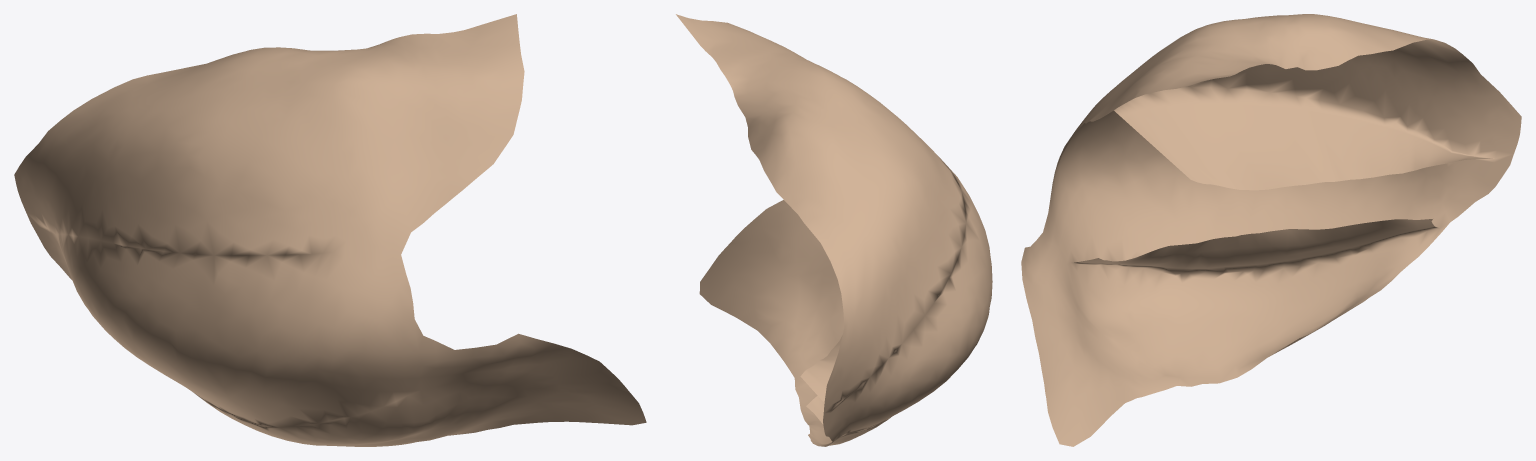
3 renders of one model, left to right at view 1: azimuth 30°, elevation 25°; view 2: azimuth 150°, elevation 25°; view 3: azimuth 270°, elevation 25°, orthographic. The views are drawn at different scales.
Visible parts, largest first — view 1: 右侧三角肌筋膜; view 2: 右侧三角肌筋膜; view 3: 右侧三角肌筋膜.
Part boxes in pixels (<box>): 右侧三角肌筋膜: <box>14,14,646,446</box>; 右侧三角肌筋膜: <box>676,14,992,446</box>; 右侧三角肌筋膜: <box>1021,14,1521,446</box>.
Size of the model in its own units: 0.2118 by 0.1952 by 0.2393.
